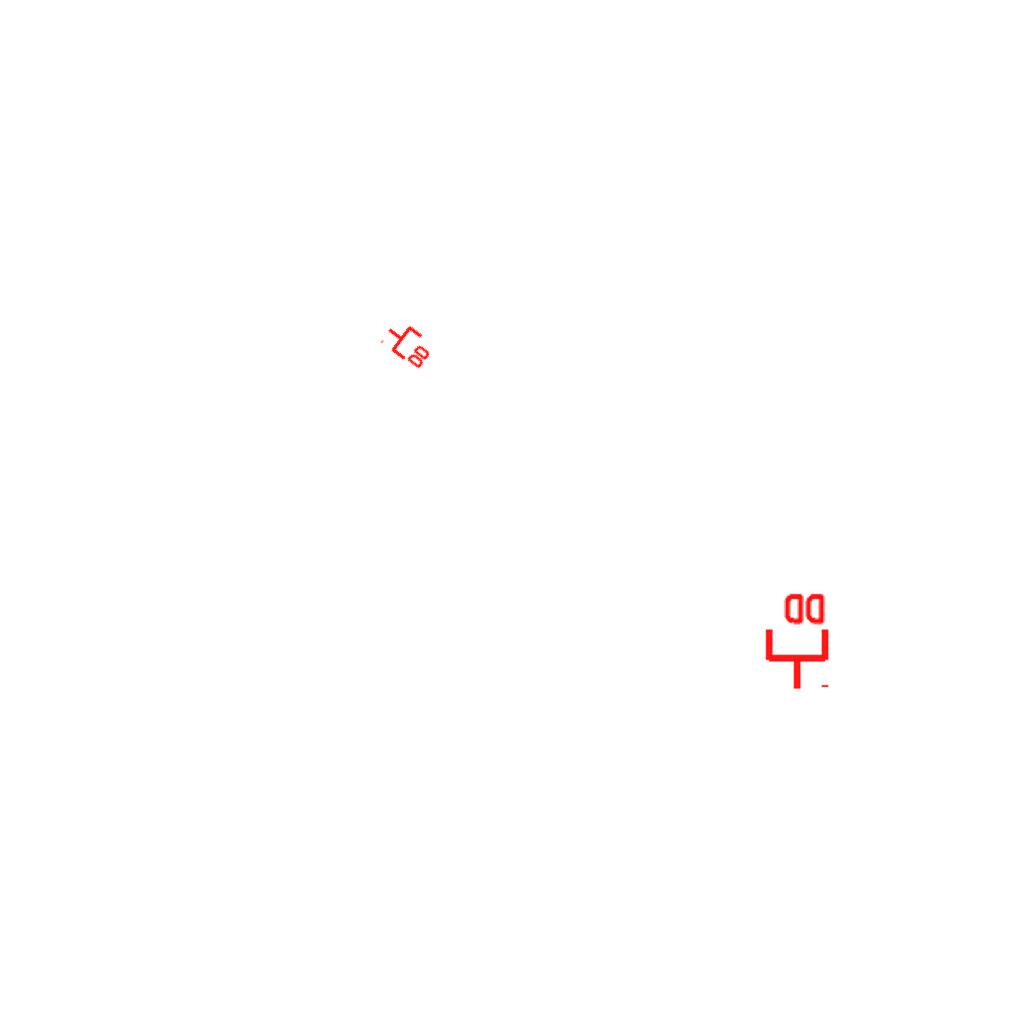Datenanschluss_zweifach: (761, 589, 830, 692), (378, 314, 440, 373)
